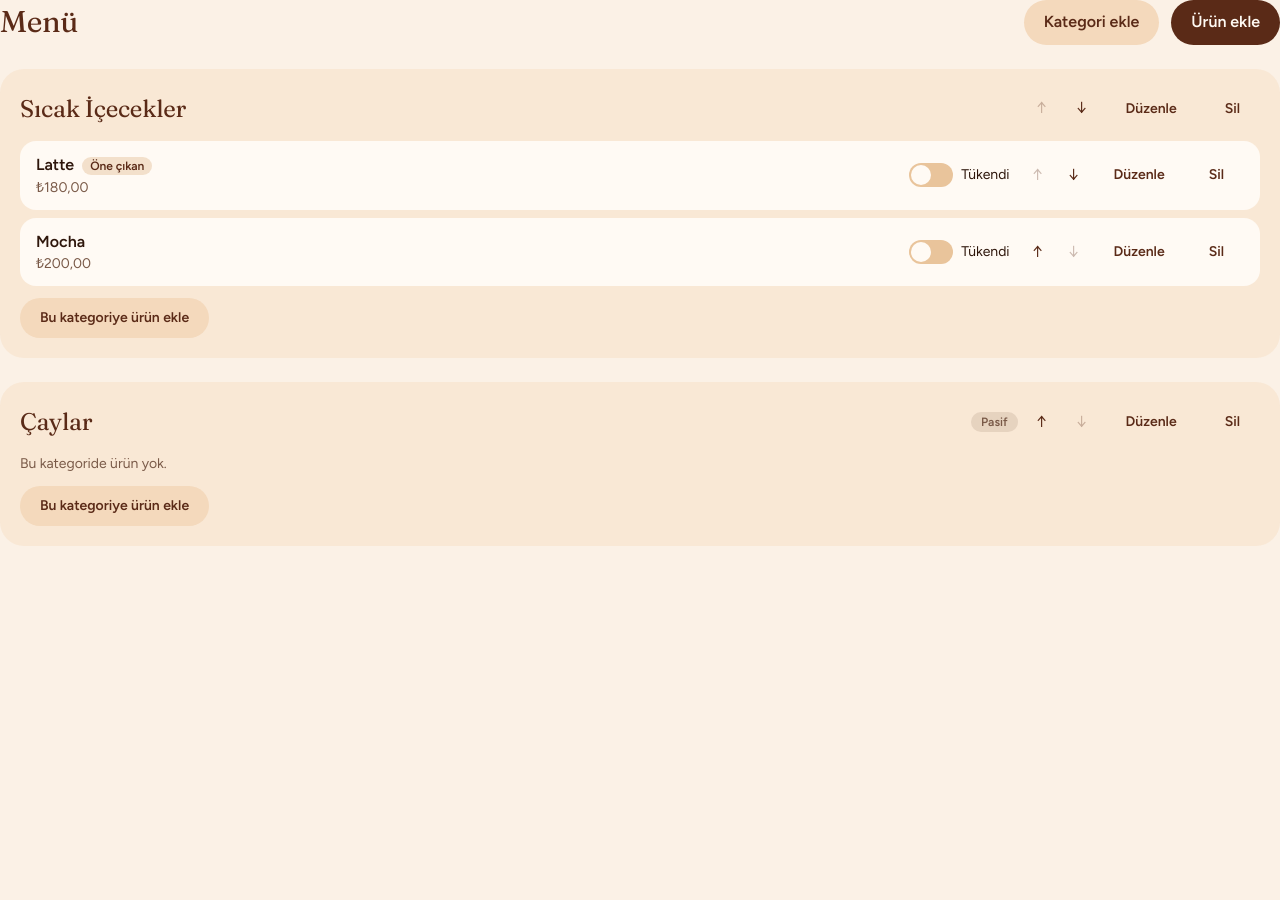
Test: AdminMenuPage › adds a category
Click the button "Kategori ekle": x=1092, y=22 [1024,0,1159,45]
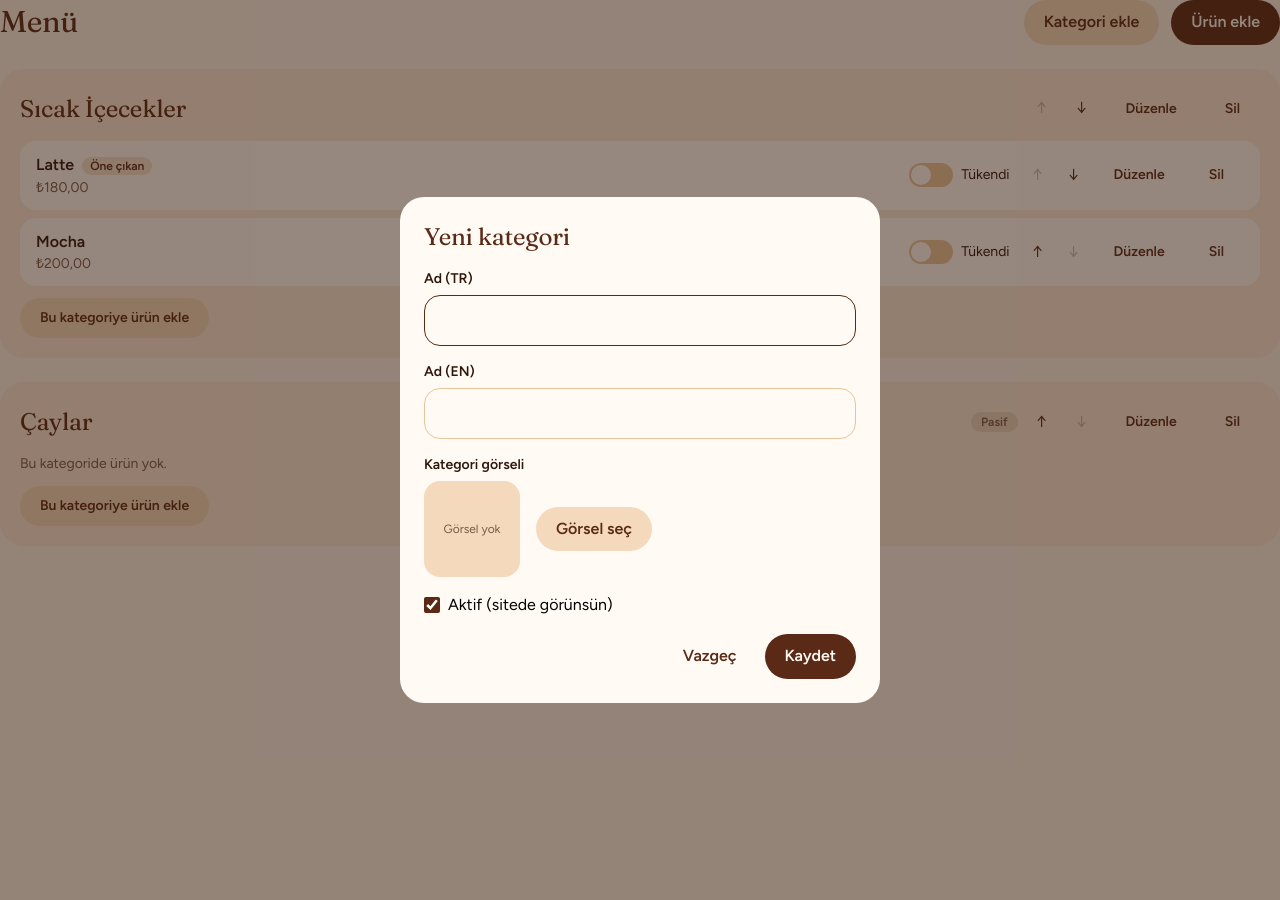
In the field labelled "Ad (TR)": x=640, y=321 [424,295,856,346], type "Tatlılar"
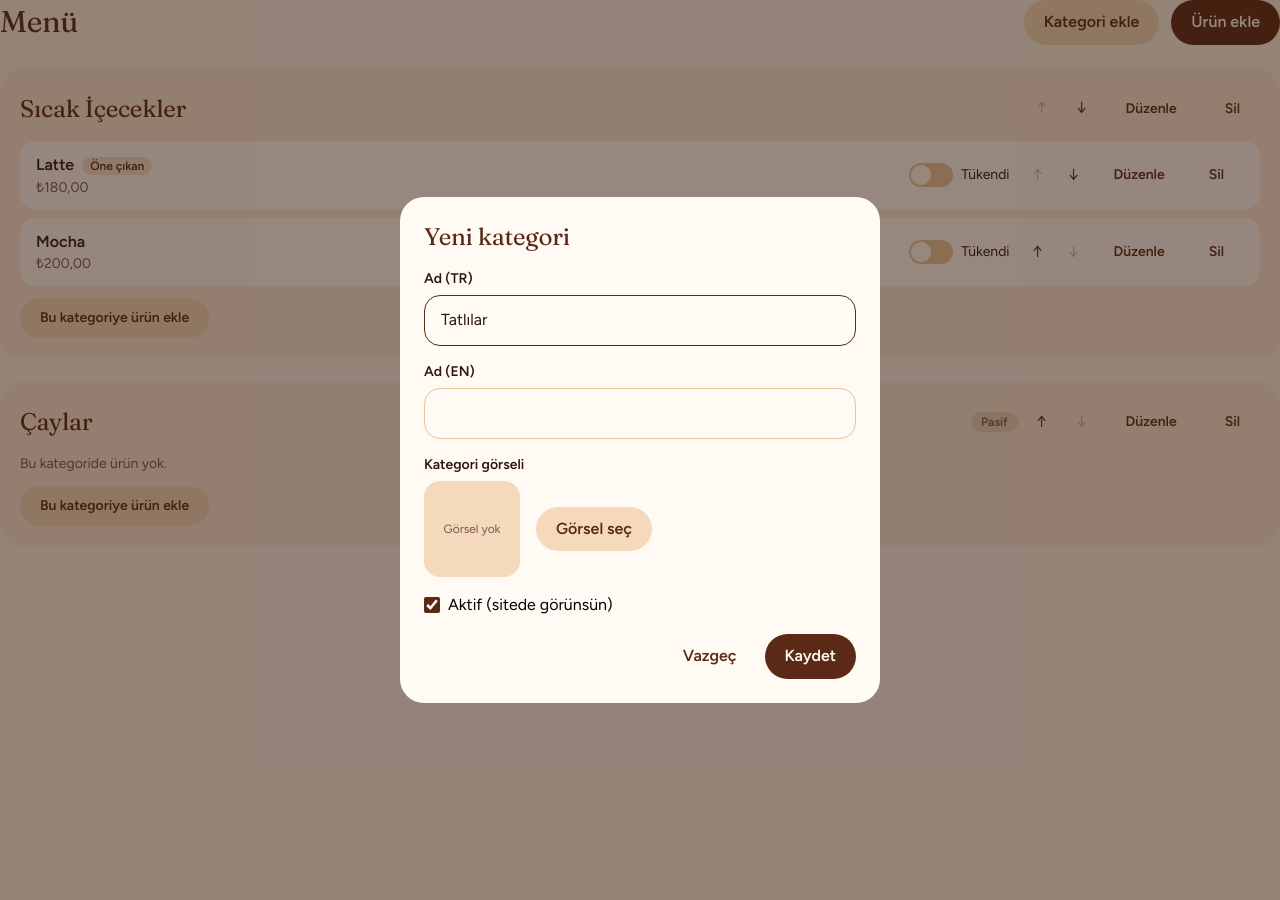
Click the button "Kaydet": x=810, y=656 [765,634,856,679]
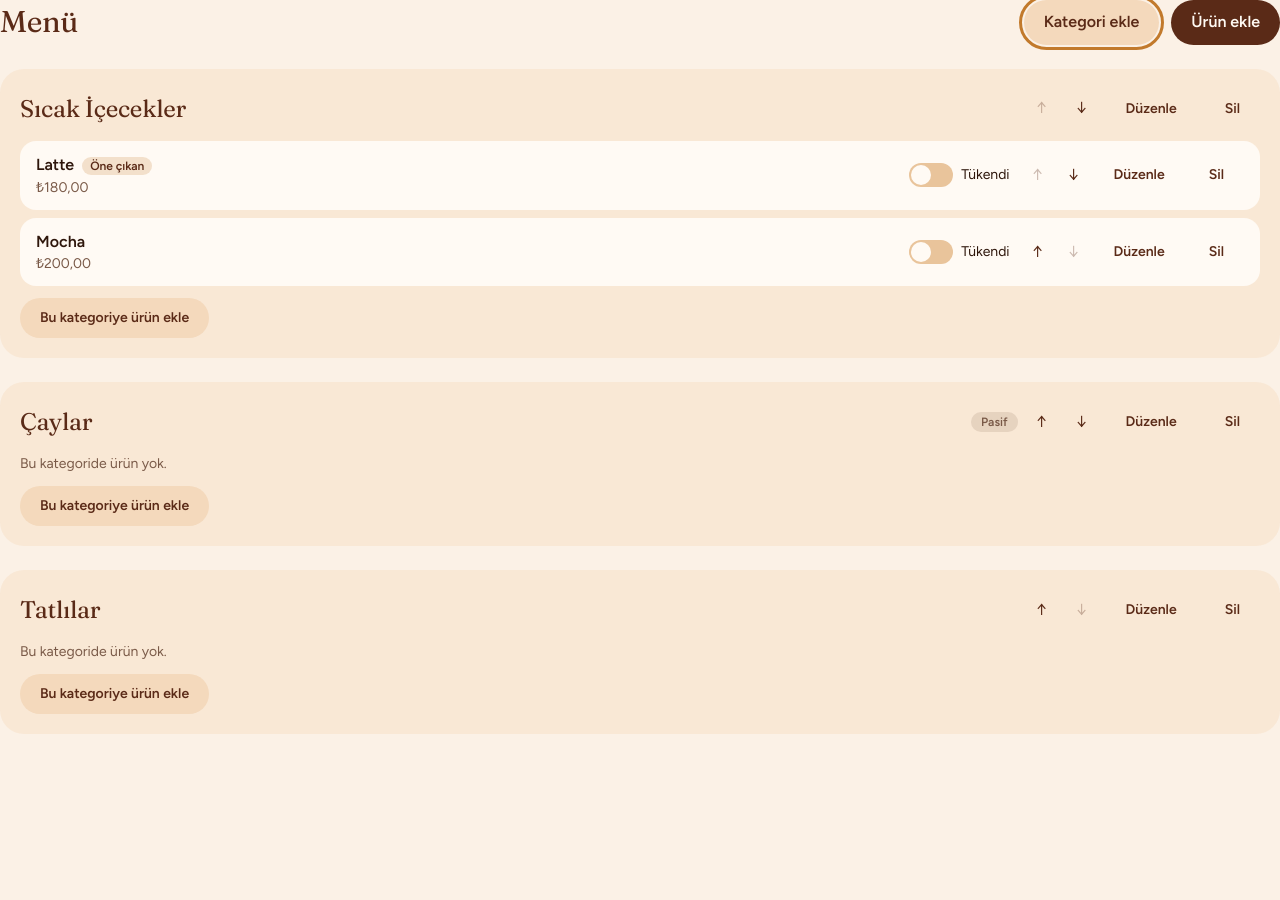
Check: the element "Tatlılar" is shown, box [0,570,1279,734]
